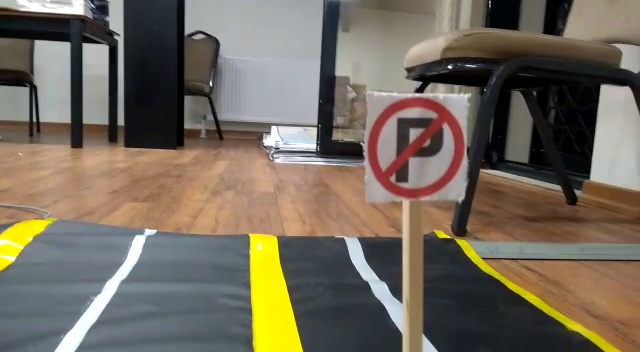park_yapilmaz: (363, 97, 470, 198)
